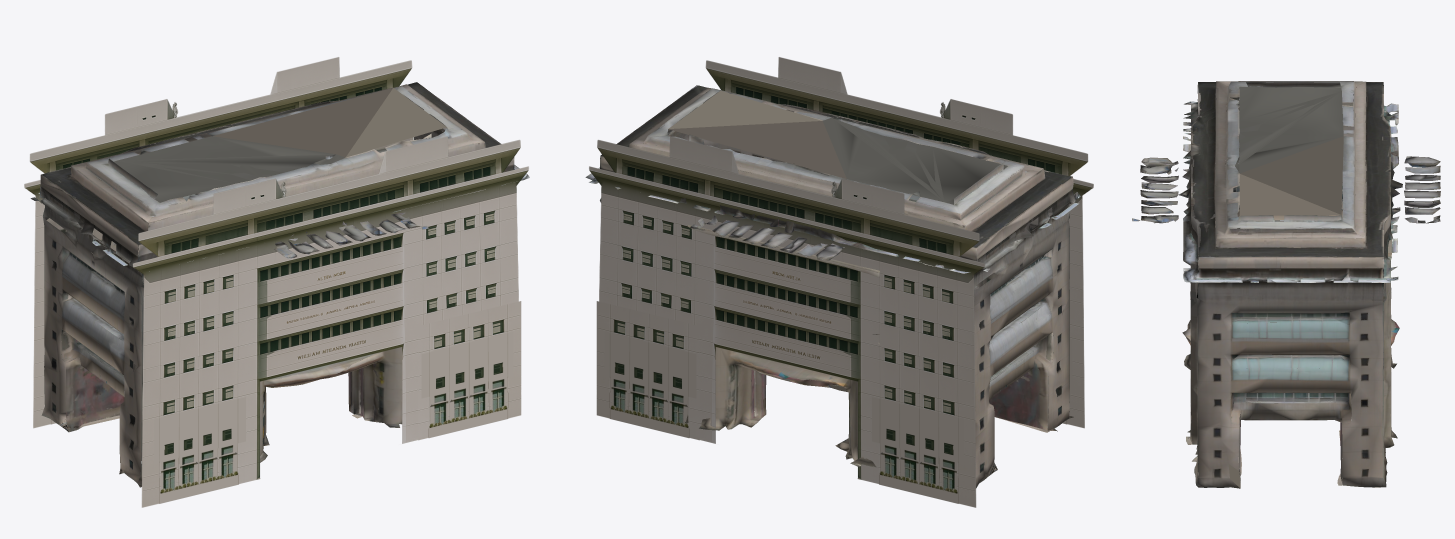
Rendered from ALCALDIA.glb.
3 renders of one model, left to right at view 1: azimuth 30°, elevation 25°; view 2: azimuth 150°, elevation 25°; view 3: azimuth 270°, elevation 25°, orthographic. The views are drawn at different scales.
Visible parts, largest first — view 1: alcaldia.001, Mesh_0, alcaldia; view 2: alcaldia, Mesh_0, alcaldia.001; view 3: Mesh_0.
Boxes of the visible parts, x1,y1,x2,y2 form: alcaldia.001: [132, 136, 528, 507]; Mesh_0: [30, 82, 529, 487]; alcaldia: [24, 57, 412, 428]; alcaldia: [589, 136, 985, 507]; Mesh_0: [585, 85, 1080, 487]; alcaldia.001: [705, 57, 1093, 428]; Mesh_0: [1132, 81, 1440, 488].
Bounding box in the file's own units: 6.89 × 5.13 × 4.57.
3 materials, 3 textured.
